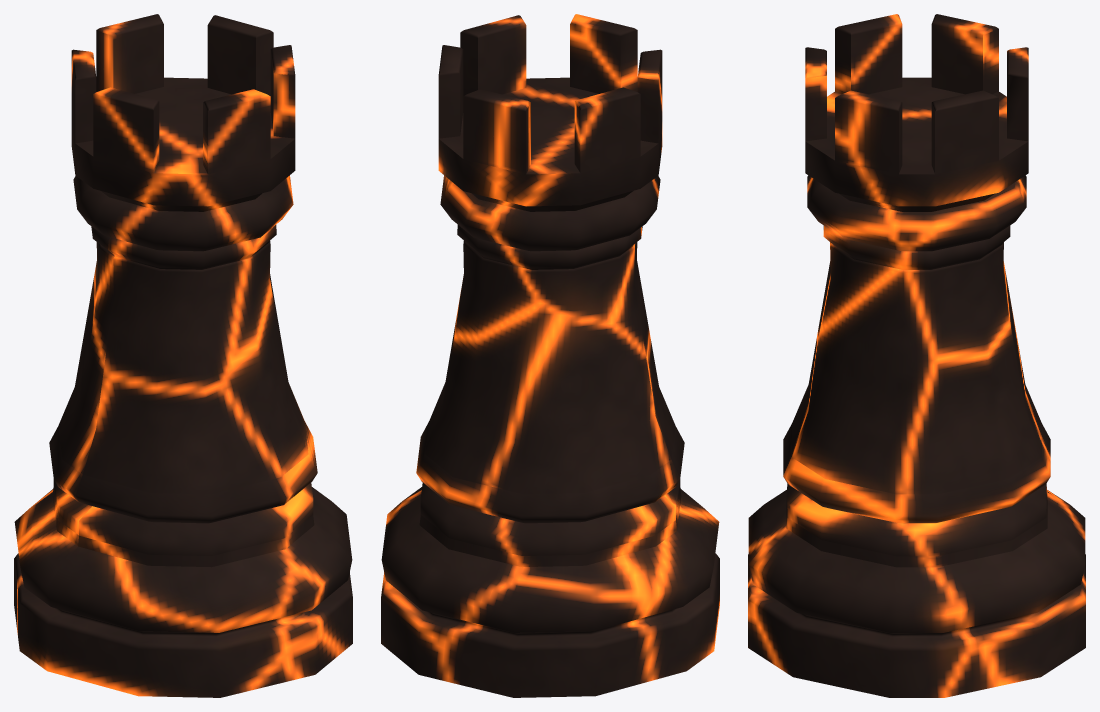
The model's file is item-3-5.glb.
The picture shows the model from 3 angles, left to right: view 1: azimuth 30°, elevation 25°; view 2: azimuth 150°, elevation 25°; view 3: azimuth 270°, elevation 25°; orthographic projection.
Parts seen in each view (by area): view 1: BlackTower; view 2: BlackTower; view 3: BlackTower.
Boxes of the visible parts, x1,y1,x2,y2 form: BlackTower: (14,14,352,697); BlackTower: (381,14,719,697); BlackTower: (748,14,1085,697).
Size of the model in its own units: 0.092 by 0.1651 by 0.0897.
Materials: 1 (1 with a texture image).
